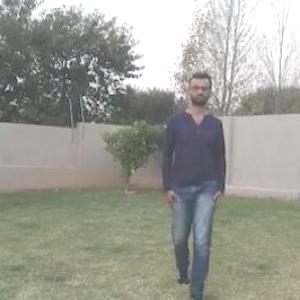follow: (169, 90, 219, 289)
